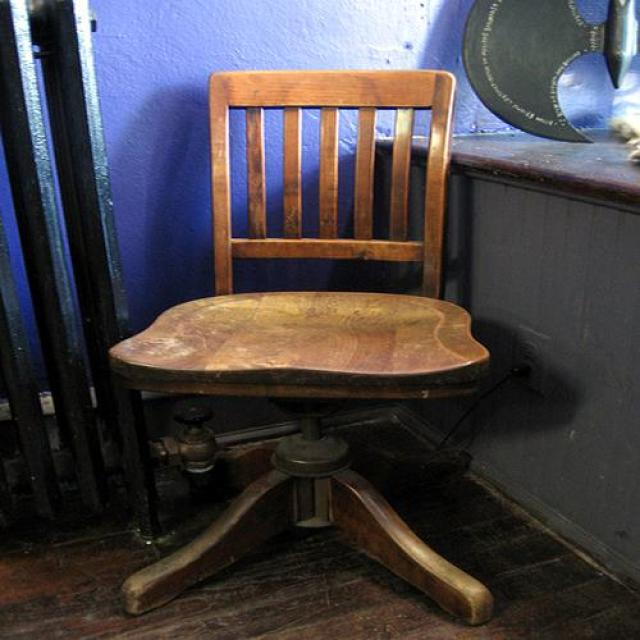swivelchair: (109, 70, 494, 625)
